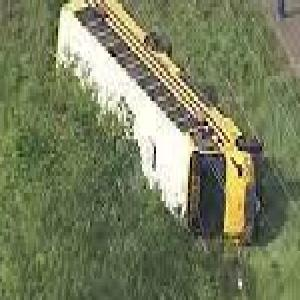critical: (52, 0, 264, 246)
